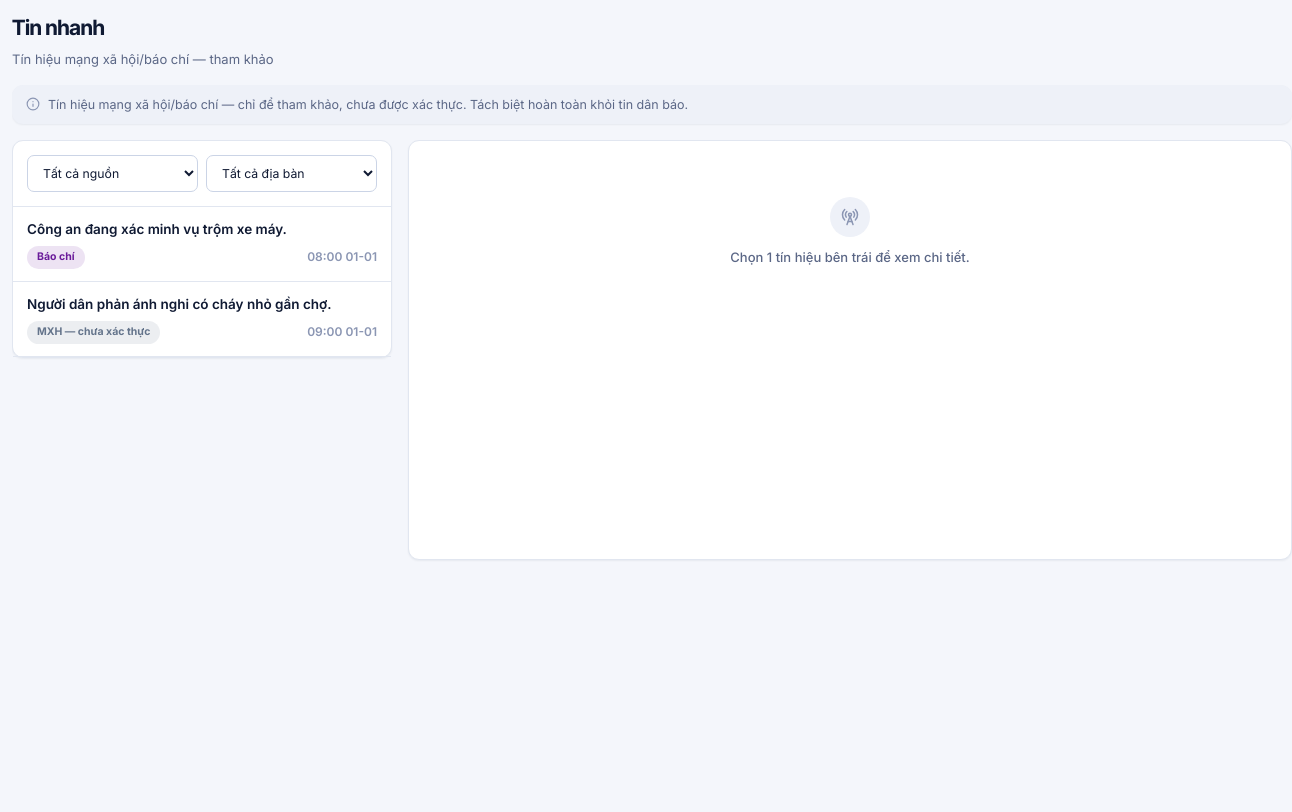
SignalsPage › lists signals with a distinct disclaimer + trust badge, shows detail on selection, no status UI
The image size is (1292, 812).
Expected: the text "chỉ để tham khảo, chưa được xác thực" is shown, [48,97,688,112]
Expected: the text "Người dân phản ánh nghi có cháy nhỏ gần chợ." is shown, [27,294,377,315]
Click the text "Công an đang xác minh vụ trộm xe máy.". click: (157, 229)
box: [27,221,287,237]
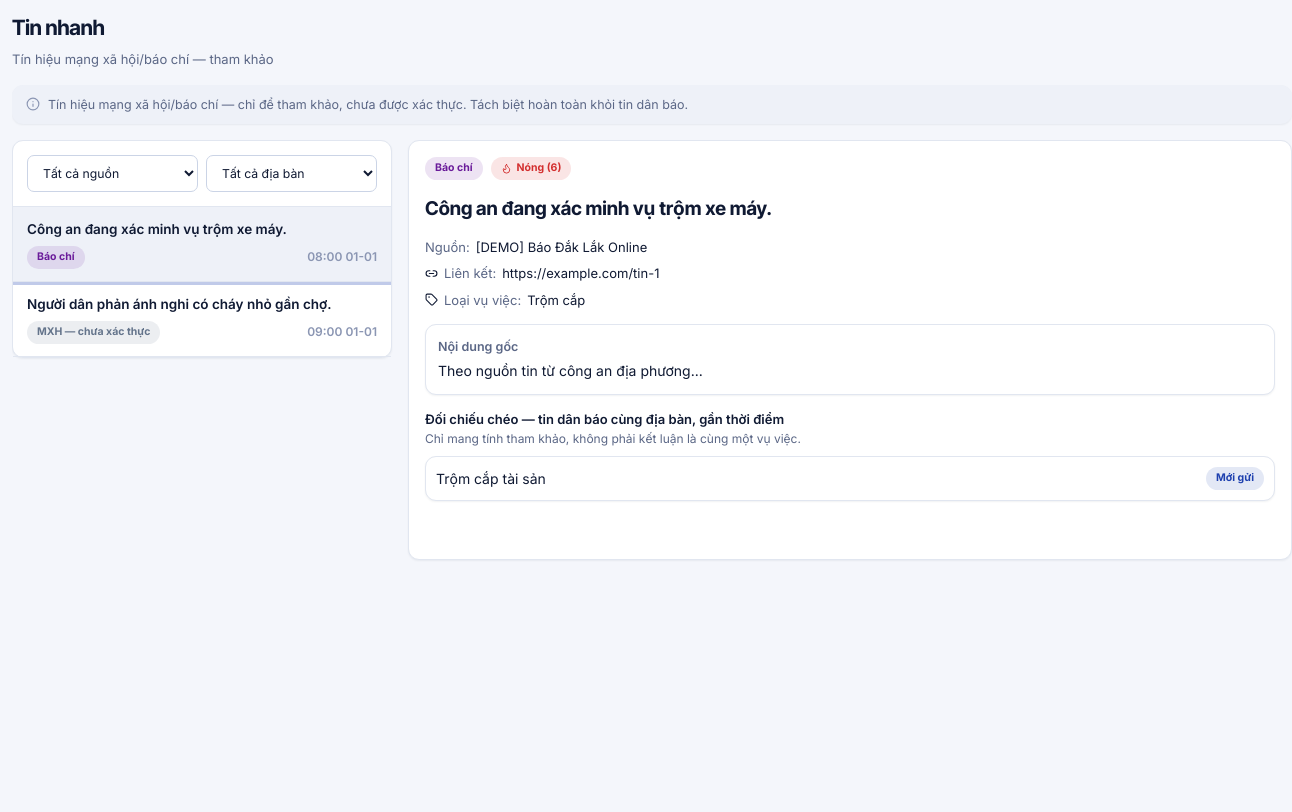
Expected: the text "Theo nguồn tin từ công an địa phương..." is shown, [438,362,703,379]
Expected: the text "Nóng (6)" is shown, [490,157,571,180]
Expected: the text "Đối chiếu chéo — tin dân báo cùng địa bàn, gần thời điểm" is shown, [425,412,784,428]
